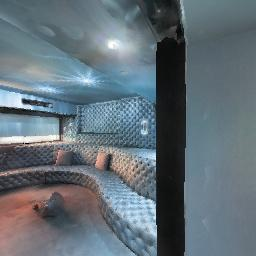sofa: (0, 145, 149, 228)
